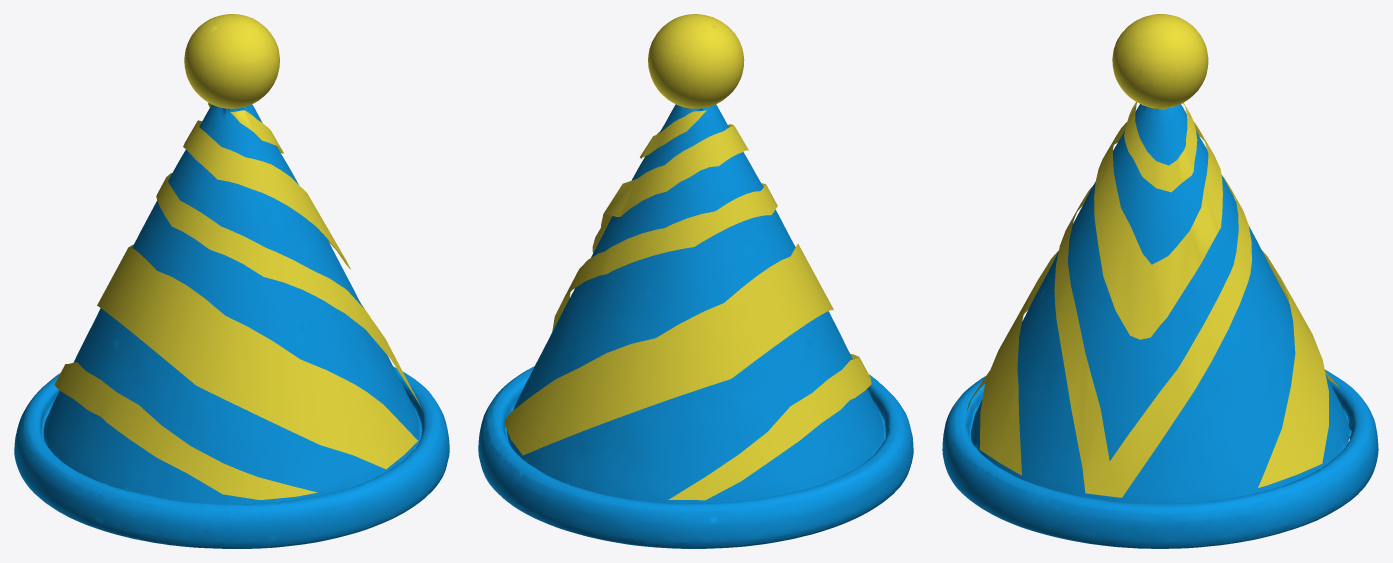
The model's file is partyhattex.glb.
3 renders of one model, left to right at view 1: azimuth 30°, elevation 25°; view 2: azimuth 150°, elevation 25°; view 3: azimuth 270°, elevation 25°, orthographic.
Visible parts, largest first — view 1: world; view 2: world; view 3: world.
Part boxes in pixels (x1,y1,x2,y2): world: (14, 14, 449, 548); world: (478, 14, 913, 548); world: (942, 14, 1378, 548).
Size of the model in its own units: 0.8925 by 0.9991 by 0.8926.
